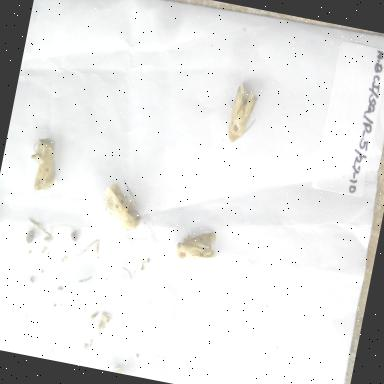abw: (92, 171, 152, 237), (21, 121, 70, 201), (218, 76, 266, 152), (168, 220, 228, 270)
